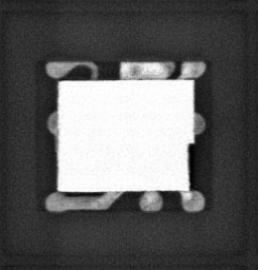DIE_BROKEN: (186, 141, 196, 192)
